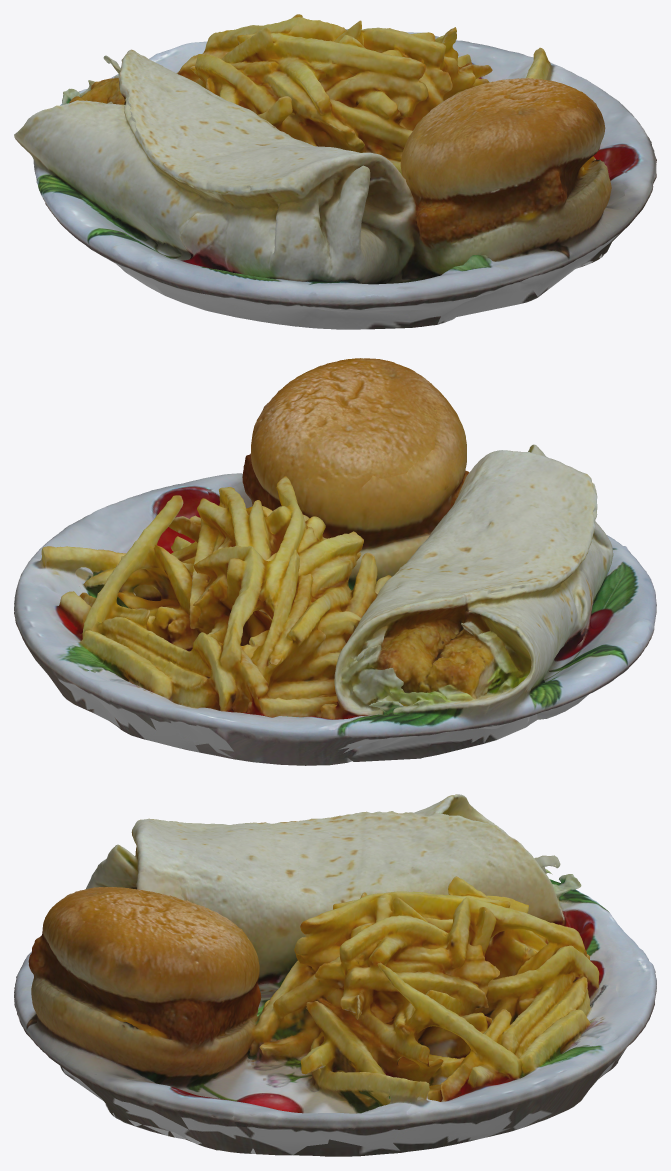
The picture shows the model from 3 angles, top to bottom: view 1: azimuth 30°, elevation 25°; view 2: azimuth 150°, elevation 25°; view 3: azimuth 270°, elevation 25°; orthographic projection. The views are drawn at different scales.
Visible parts, largest first — view 1: Object_3, Object_2; view 2: Object_3, Object_2; view 3: Object_3, Object_2.
Part boxes in pixels (x1,y1,x2,y2): Object_3: (14, 14, 656, 310); Object_2: (15, 17, 656, 329); Object_3: (14, 358, 656, 765); Object_2: (19, 358, 656, 765); Object_3: (14, 794, 656, 1156); Object_2: (14, 794, 656, 1155).
Size of the model in its own units: 0.1916 by 0.0605 by 0.1918.
1 material, 1 textured.
